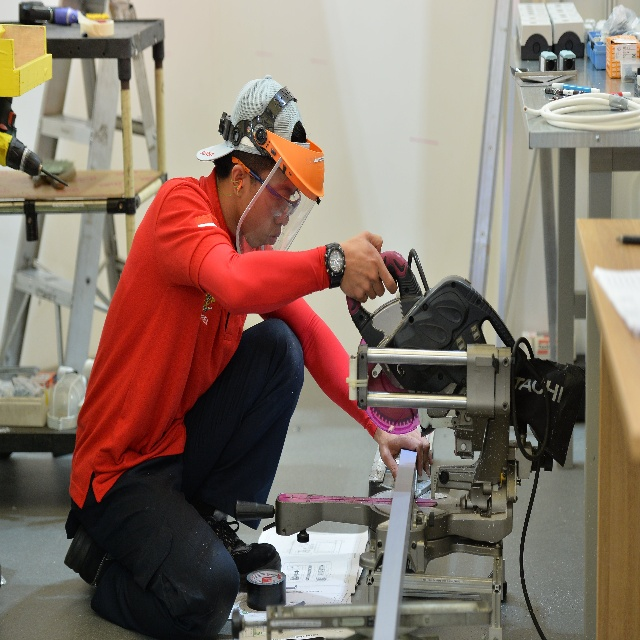Gafas: (230, 156, 301, 220)
Sin_guantes: (340, 230, 397, 303), (377, 428, 434, 484)
